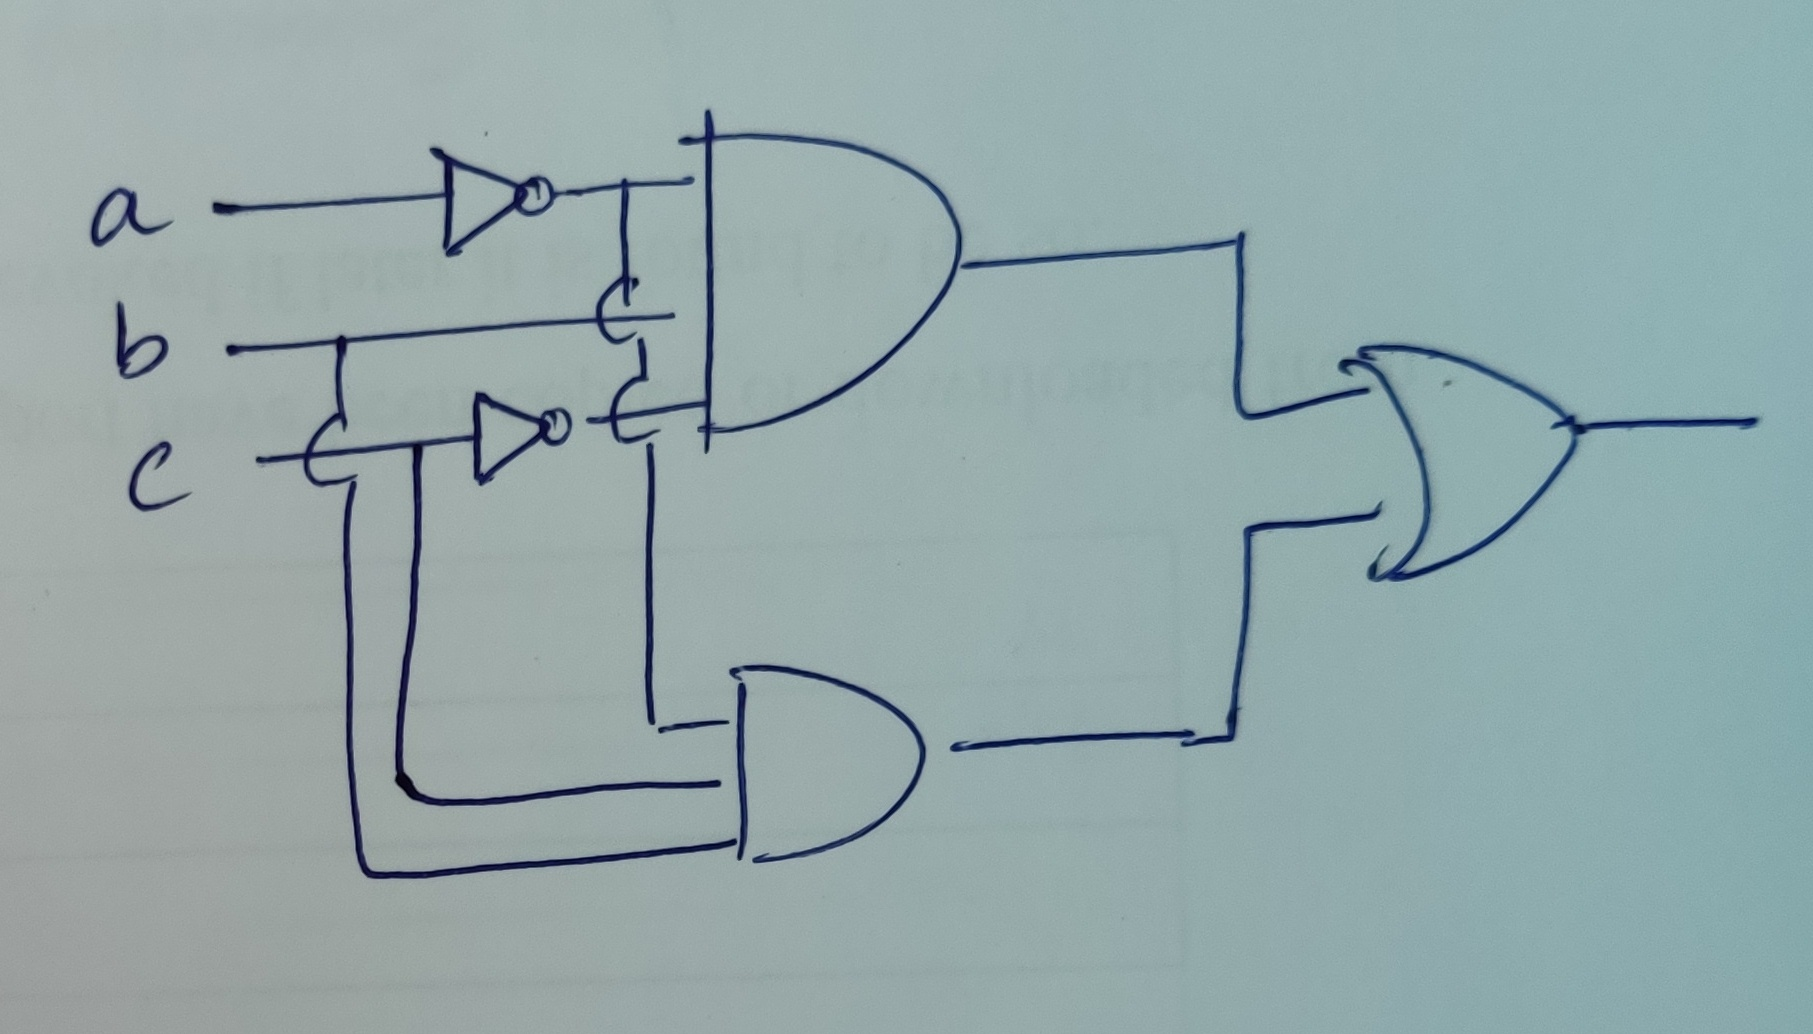and: (675, 86, 999, 470), (704, 588, 1004, 928)
not: (395, 113, 582, 279), (448, 366, 590, 500)
or: (1306, 259, 1650, 637)
